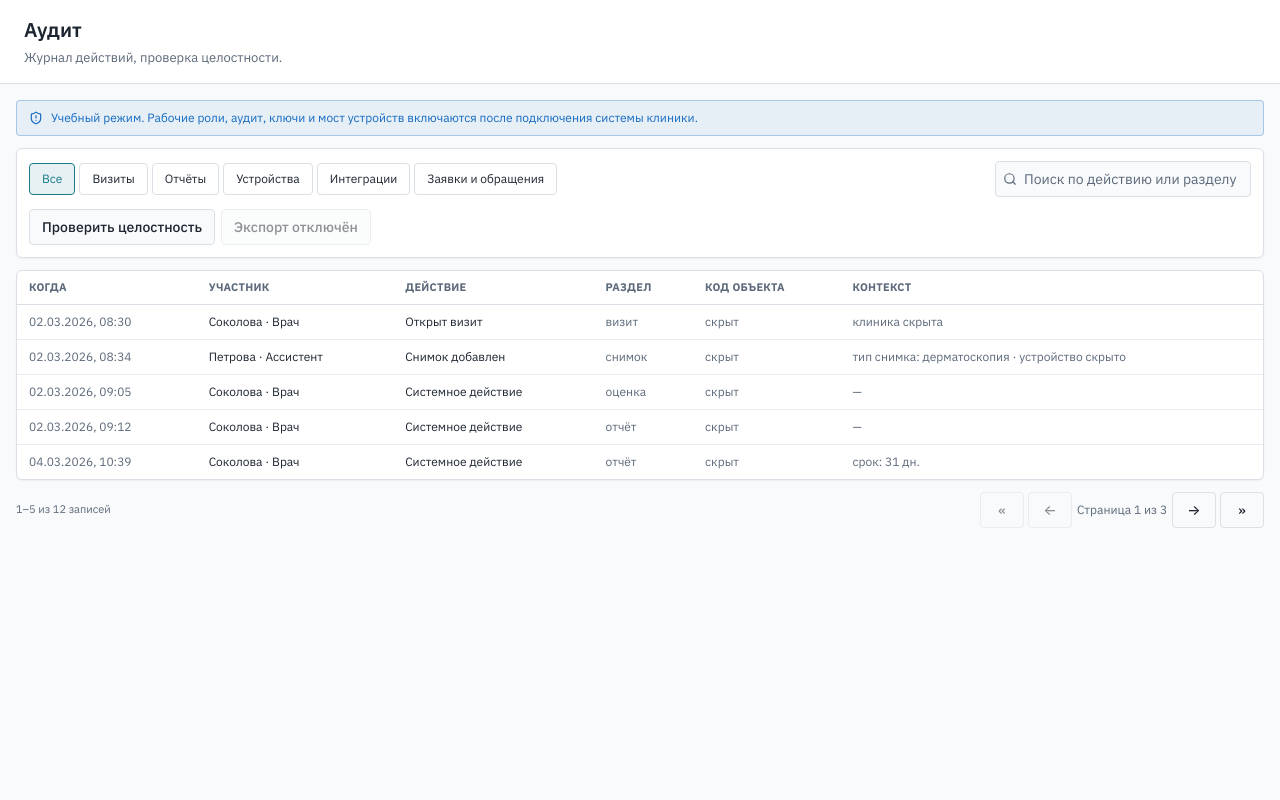
Test: Sys pages — render & safety › SysAuditPage 'Проверить целостность' shows local summary without network
Click the button "Проверить целостность" at (122,227), box x1=29 y1=209 x2=215 y2=245
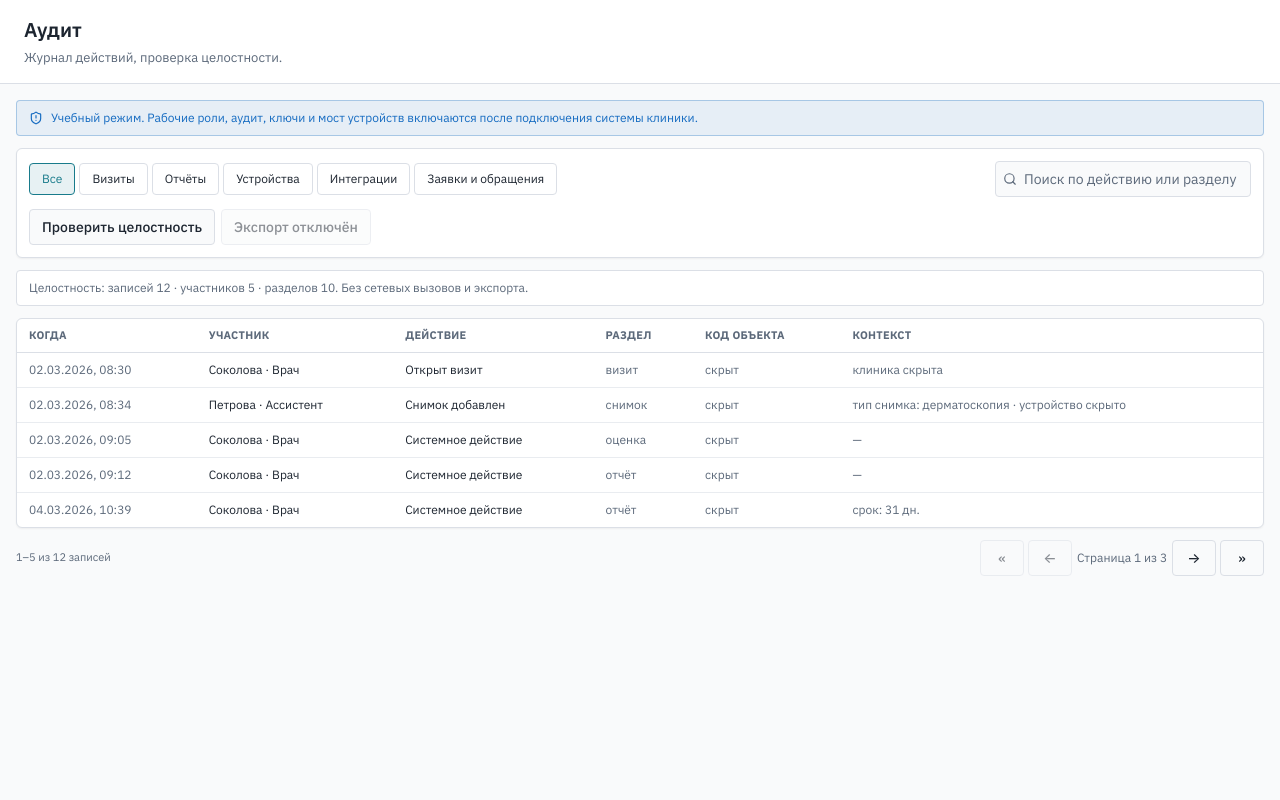
Expected: the text "Целостность: записей" is shown, x1=29 y1=280 x2=156 y2=295
